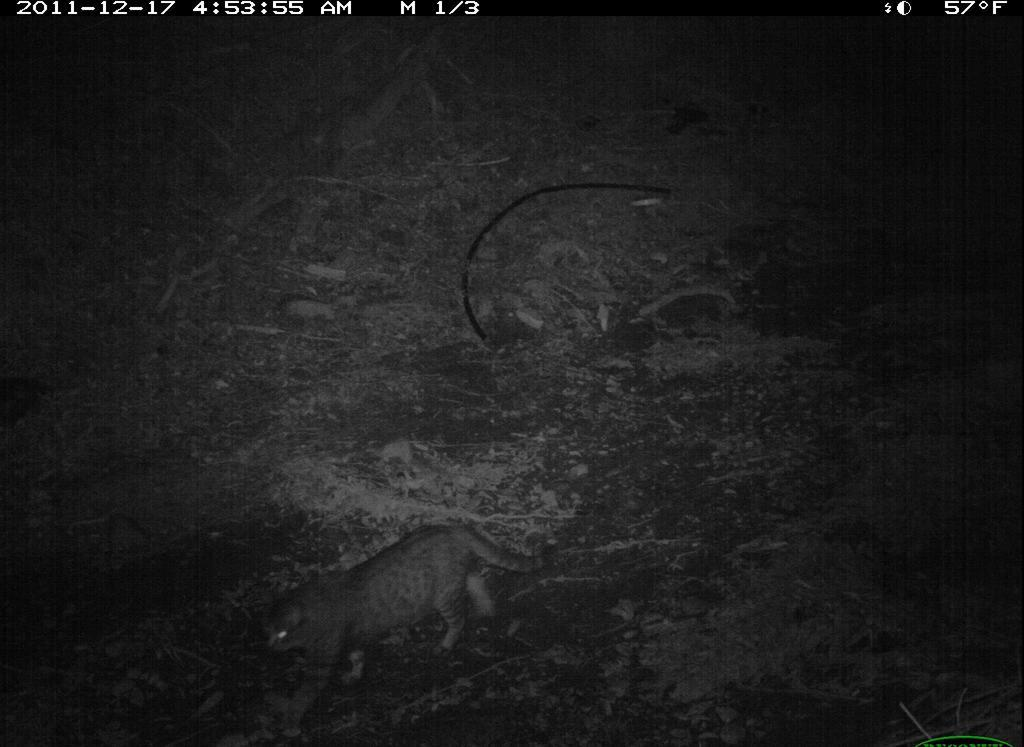cat: (227, 500, 547, 701)
